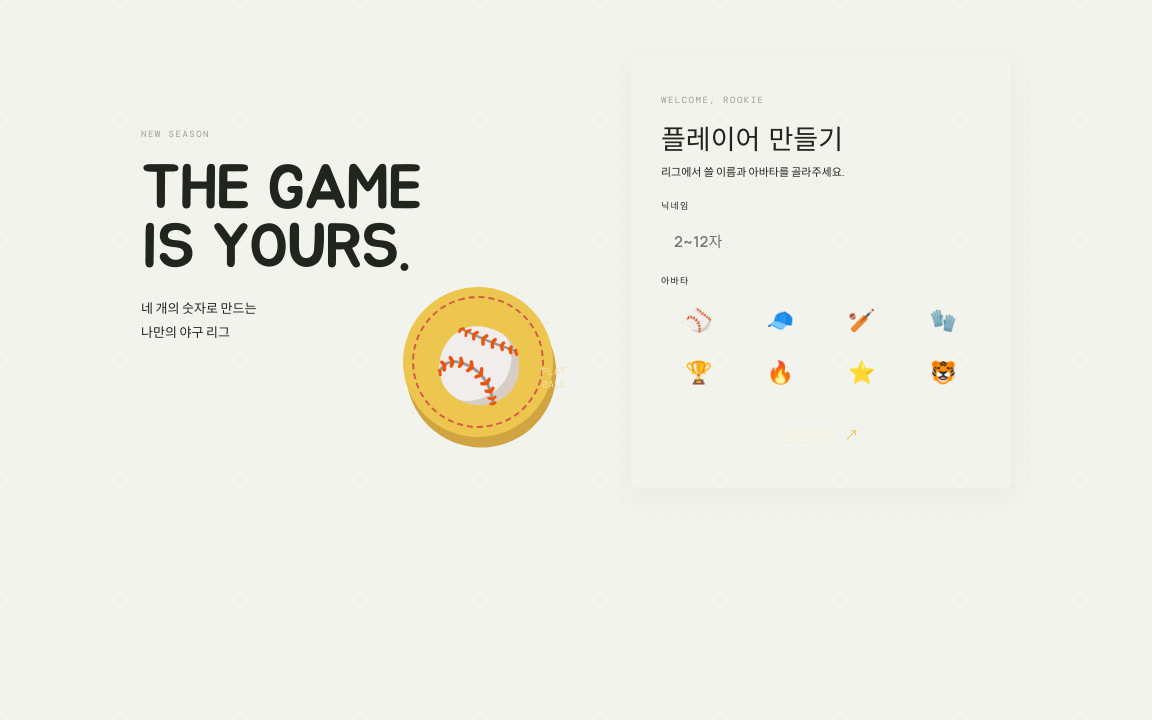
Scenario: PlayerSetupScreen › 서버 에러를 안내한다
Type "민지" into the field labelled "닉네임" at (821, 241), box [661, 218, 981, 264]
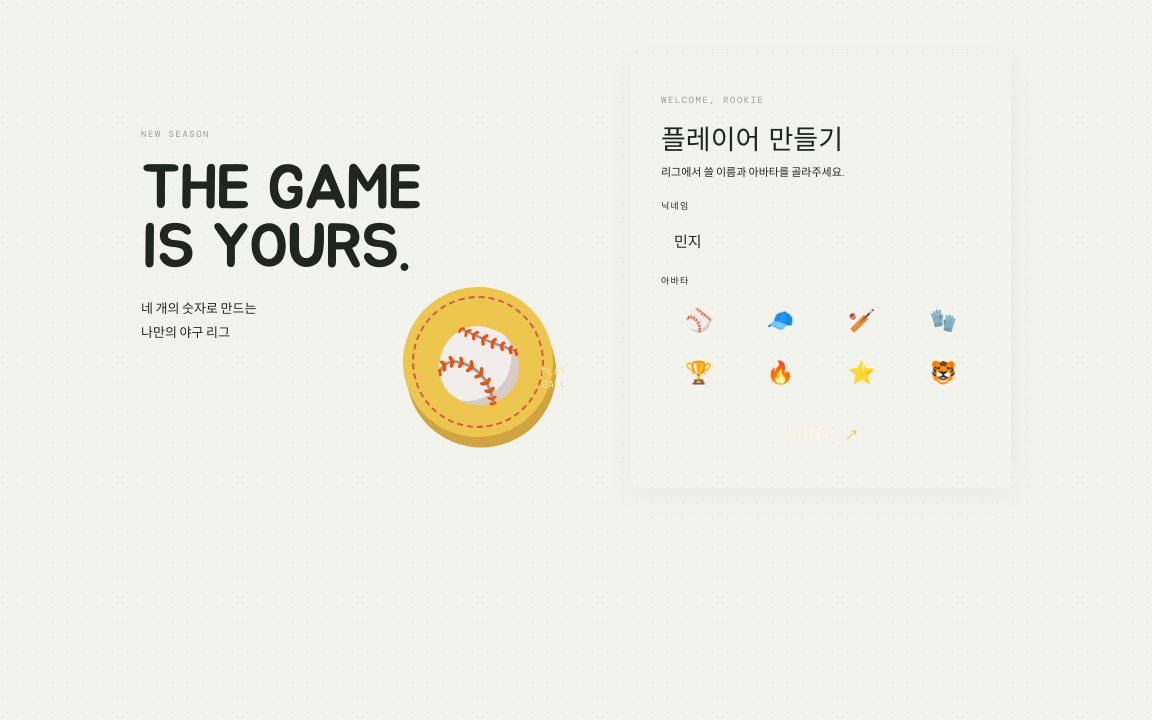
Click the button "입단하기↗" at (821, 434), box [661, 411, 981, 458]
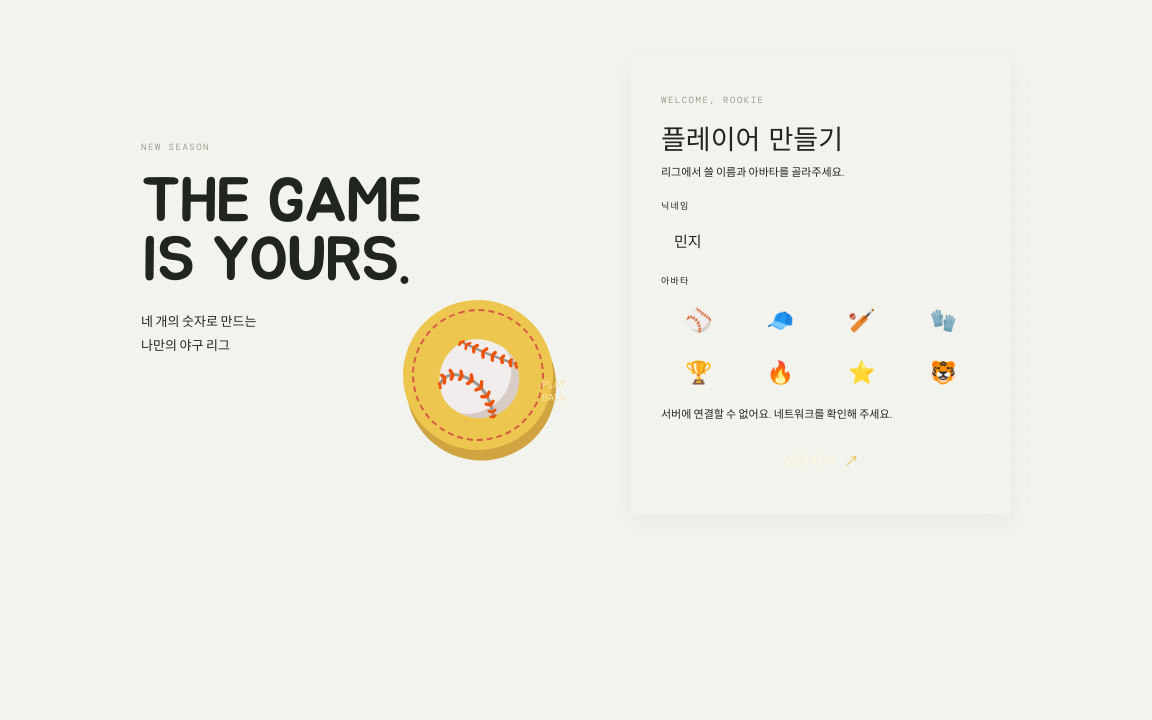
Expected: the button "입단하기↗" is enabled, [661, 437, 981, 484]
Now the message shows "네트워크", box [661, 406, 892, 421]
